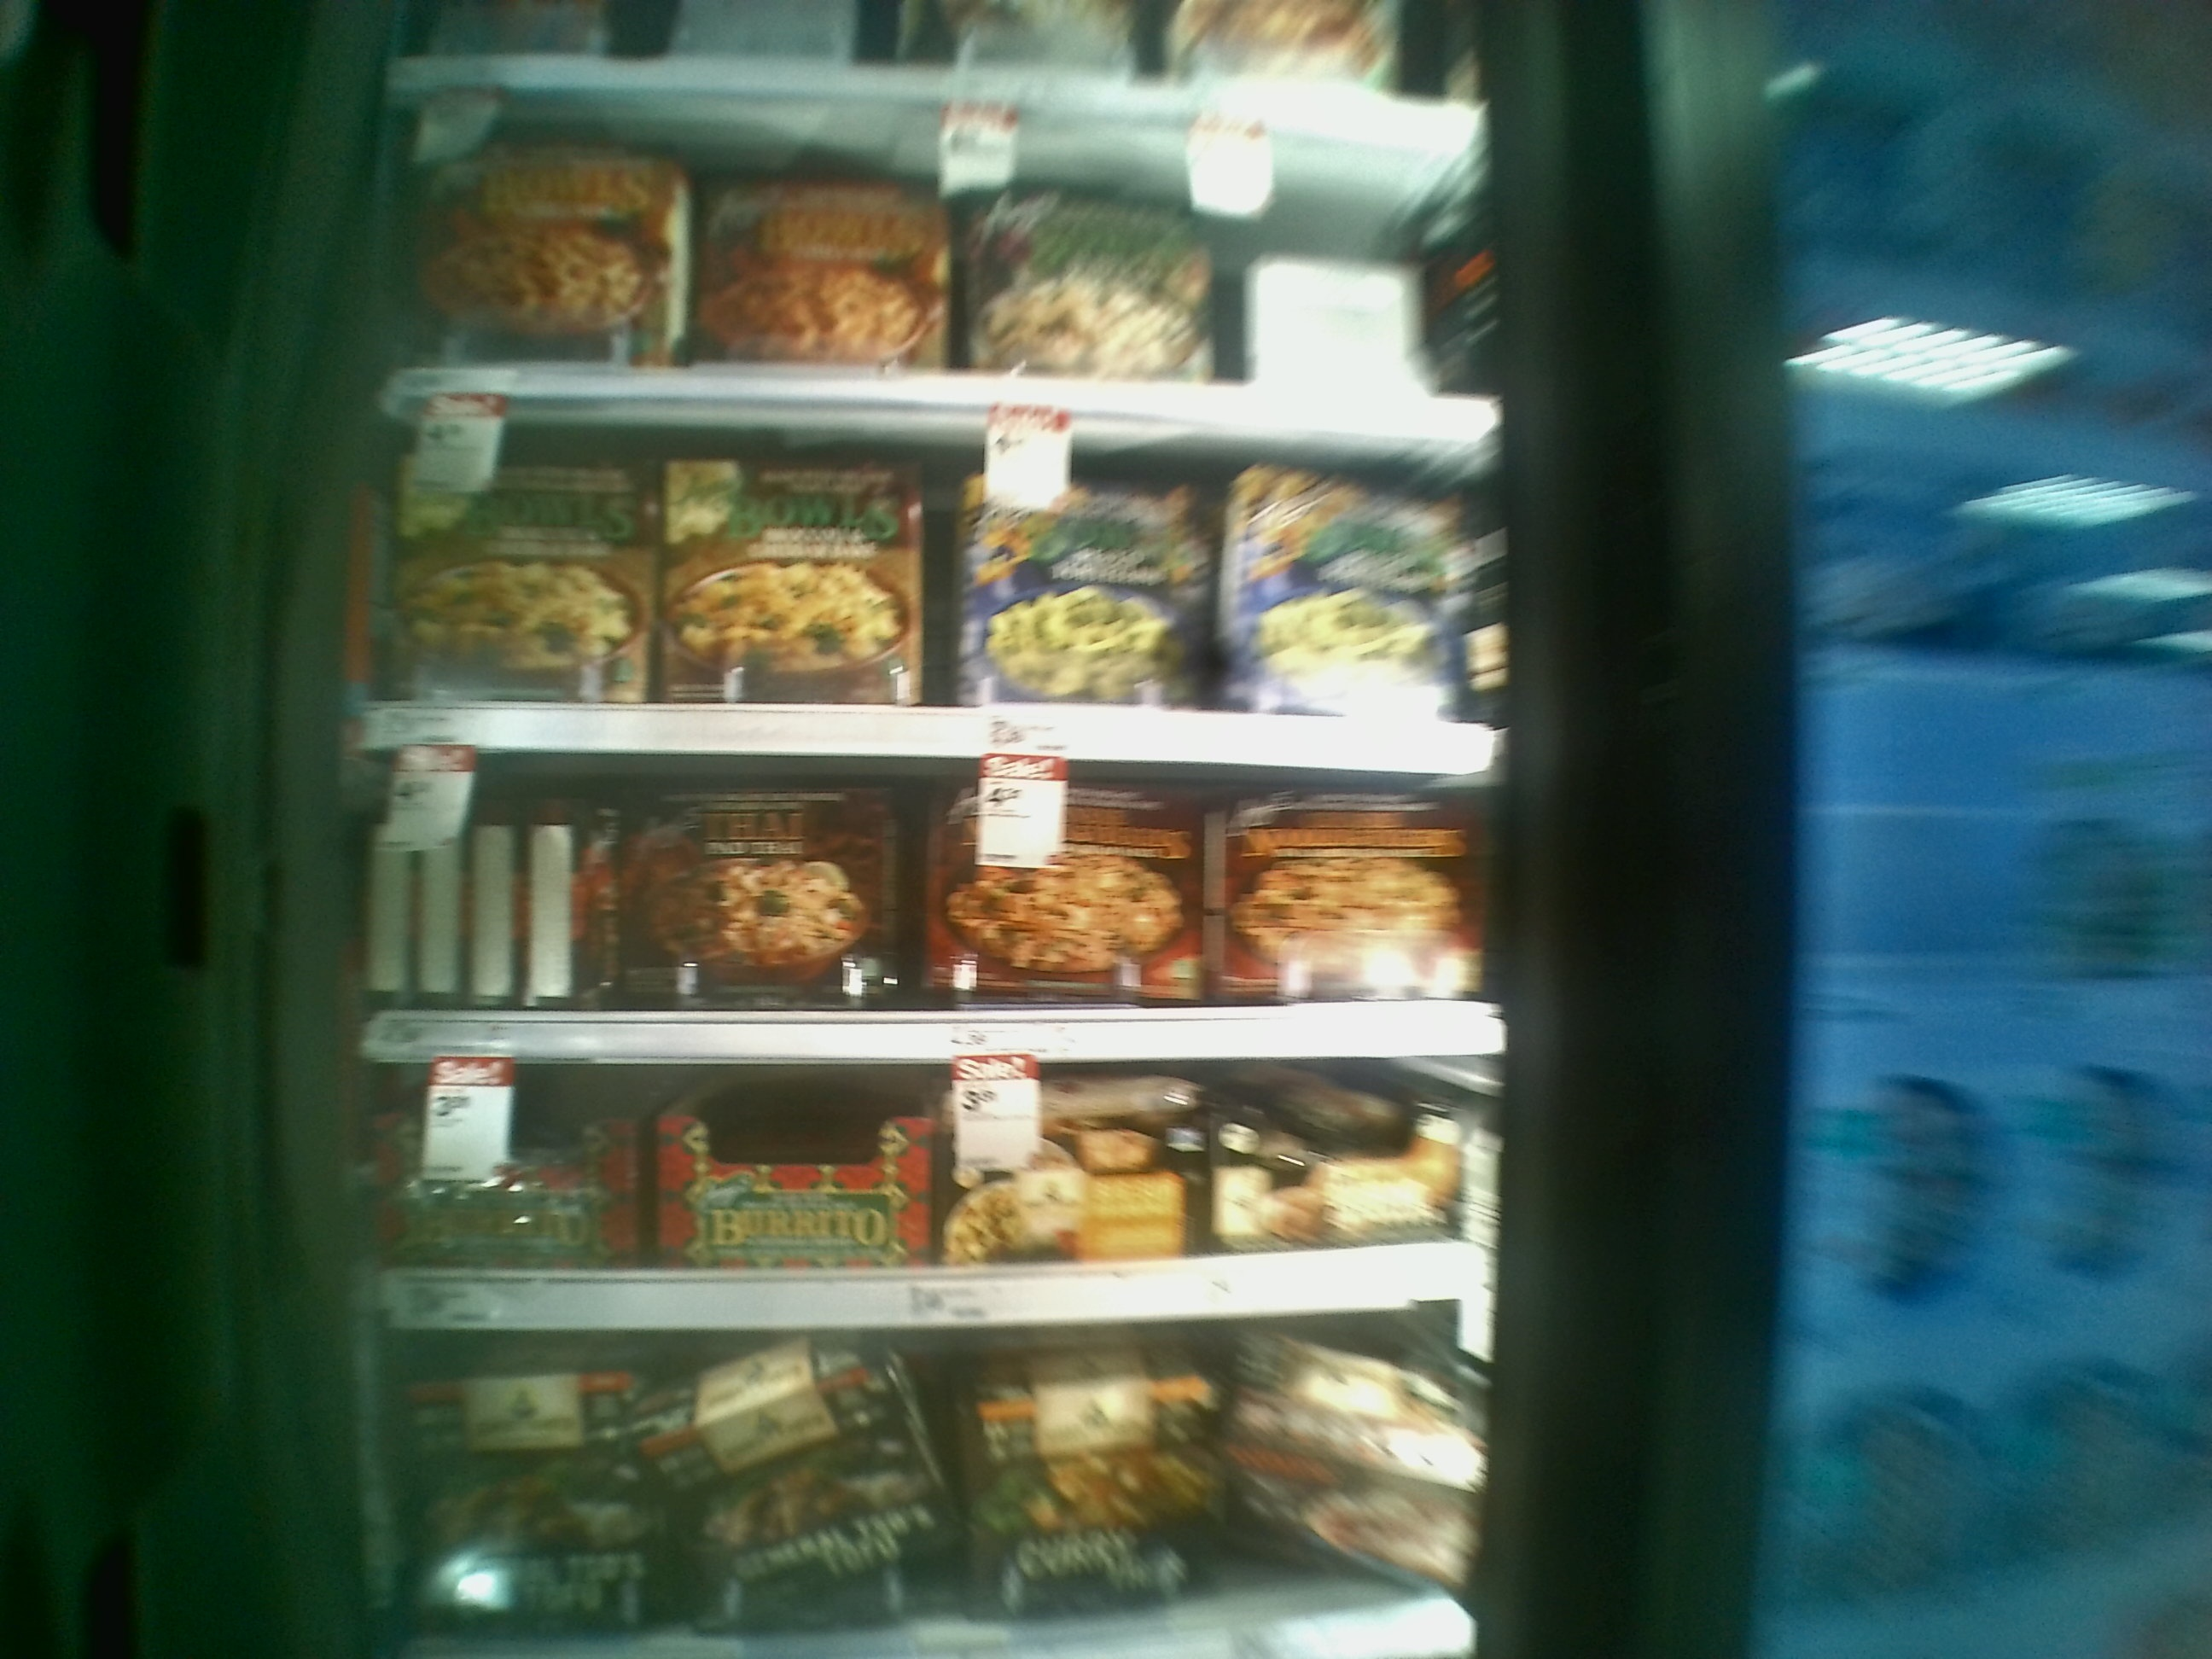frozen-food-shelf: (355, 448, 1526, 779), (366, 118, 1519, 448), (355, 782, 1526, 1070), (355, 1070, 1529, 1338)
